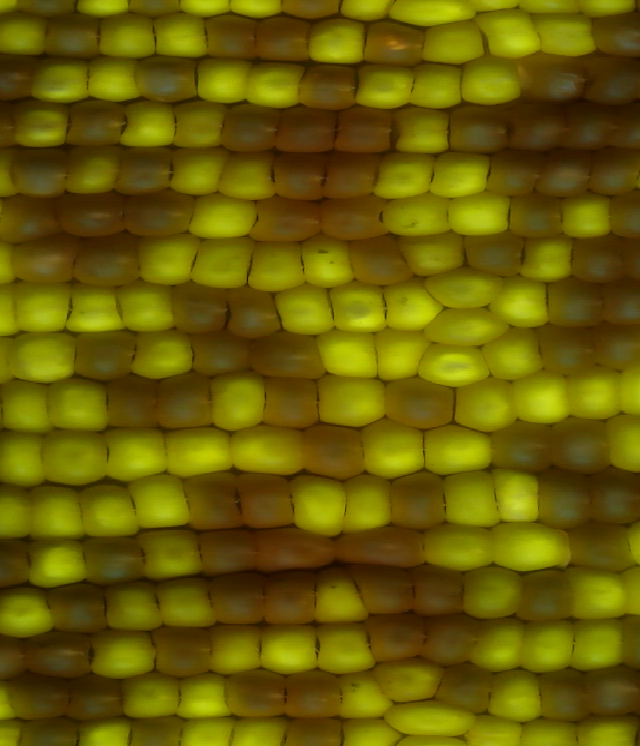fluorescent: (225, 420, 311, 480), (486, 519, 579, 570), (416, 420, 498, 476), (433, 466, 506, 528), (73, 477, 142, 541), (98, 424, 173, 482), (360, 416, 427, 480), (133, 524, 205, 583), (41, 425, 110, 486), (157, 420, 232, 476), (420, 519, 498, 572), (289, 469, 348, 539), (27, 480, 90, 545), (206, 370, 269, 434), (125, 470, 190, 532), (186, 188, 263, 240), (41, 376, 110, 434), (314, 372, 386, 427), (310, 565, 373, 627), (463, 561, 526, 623), (368, 320, 432, 380), (306, 620, 377, 674), (427, 304, 514, 348), (379, 190, 457, 239), (10, 329, 77, 386), (89, 625, 158, 680), (156, 569, 218, 630), (565, 359, 623, 424), (191, 233, 257, 290), (485, 323, 551, 380), (451, 378, 518, 434), (112, 277, 177, 334), (488, 664, 548, 725), (460, 50, 523, 108), (304, 12, 368, 69), (422, 265, 501, 311), (348, 56, 416, 109), (326, 280, 394, 333), (512, 367, 572, 427), (494, 271, 553, 332), (381, 270, 443, 328), (102, 576, 164, 634), (568, 565, 630, 623), (249, 234, 309, 293), (427, 146, 491, 201), (25, 533, 89, 588), (94, 8, 159, 62), (478, 6, 543, 60), (385, 696, 477, 734), (121, 95, 181, 153), (12, 277, 74, 333), (136, 230, 199, 285), (278, 283, 341, 338), (174, 665, 237, 720), (412, 343, 490, 387), (532, 8, 599, 59), (470, 620, 535, 672), (0, 578, 54, 640), (258, 622, 321, 675), (127, 334, 195, 383), (299, 230, 356, 288), (391, 102, 453, 155), (121, 667, 183, 720), (316, 329, 379, 381), (207, 620, 264, 677), (220, 149, 280, 203), (7, 95, 70, 146), (343, 470, 393, 534), (491, 465, 542, 527), (520, 620, 577, 675), (68, 281, 128, 333), (401, 230, 467, 277), (242, 59, 305, 108), (168, 141, 223, 197), (196, 53, 254, 106), (84, 50, 144, 101), (33, 51, 90, 104), (153, 9, 209, 62), (169, 96, 225, 149), (451, 191, 515, 237), (374, 149, 433, 198), (336, 666, 389, 720), (556, 190, 612, 241), (427, 17, 485, 65), (569, 618, 623, 669), (383, 655, 444, 699), (67, 144, 118, 196), (0, 378, 51, 430), (0, 429, 46, 485), (411, 61, 462, 111), (518, 237, 574, 281), (0, 9, 49, 57), (459, 711, 521, 746), (0, 481, 35, 540)
nonfluorescent: (512, 51, 596, 107), (179, 467, 248, 532), (383, 372, 460, 430), (233, 467, 299, 534), (348, 562, 420, 622), (249, 327, 328, 381), (70, 325, 141, 383), (332, 530, 432, 571), (256, 524, 336, 575), (169, 278, 235, 339), (553, 414, 617, 476), (4, 235, 80, 287), (0, 191, 69, 248), (386, 471, 448, 534), (248, 192, 323, 244), (207, 565, 267, 630), (147, 620, 212, 680), (68, 232, 138, 287), (156, 370, 216, 433), (565, 523, 637, 575), (535, 465, 590, 533), (299, 424, 368, 478), (220, 666, 289, 720), (463, 230, 536, 281), (258, 370, 318, 432), (541, 276, 605, 334), (318, 192, 390, 243), (277, 102, 341, 159), (330, 104, 395, 160), (589, 461, 640, 532), (348, 237, 415, 291), (63, 185, 128, 240), (491, 419, 556, 474), (538, 319, 598, 378), (121, 191, 196, 238), (81, 532, 147, 585), (223, 286, 283, 344), (538, 667, 596, 727), (46, 580, 107, 637), (520, 565, 581, 622), (23, 630, 96, 677), (444, 104, 511, 155), (362, 14, 423, 70), (285, 667, 347, 722), (222, 99, 281, 156), (10, 146, 70, 202), (263, 565, 317, 627), (7, 670, 70, 723), (132, 54, 200, 103), (196, 528, 262, 578), (257, 12, 314, 69), (436, 660, 493, 717), (511, 101, 568, 156), (273, 150, 328, 207), (200, 9, 259, 62), (363, 607, 422, 660), (585, 664, 640, 720), (317, 150, 381, 198), (299, 61, 359, 112), (191, 328, 252, 378), (585, 51, 640, 106), (421, 612, 478, 665), (65, 97, 123, 149), (507, 191, 565, 243), (68, 670, 125, 722), (414, 565, 465, 623), (116, 144, 172, 196), (44, 14, 104, 62), (105, 375, 158, 429), (564, 101, 621, 151), (568, 234, 626, 283), (589, 320, 640, 374), (537, 150, 593, 198), (488, 148, 539, 198), (591, 146, 640, 198), (0, 50, 37, 103), (604, 276, 640, 330), (596, 13, 640, 57), (0, 535, 33, 590), (607, 190, 640, 241), (0, 633, 30, 677)
